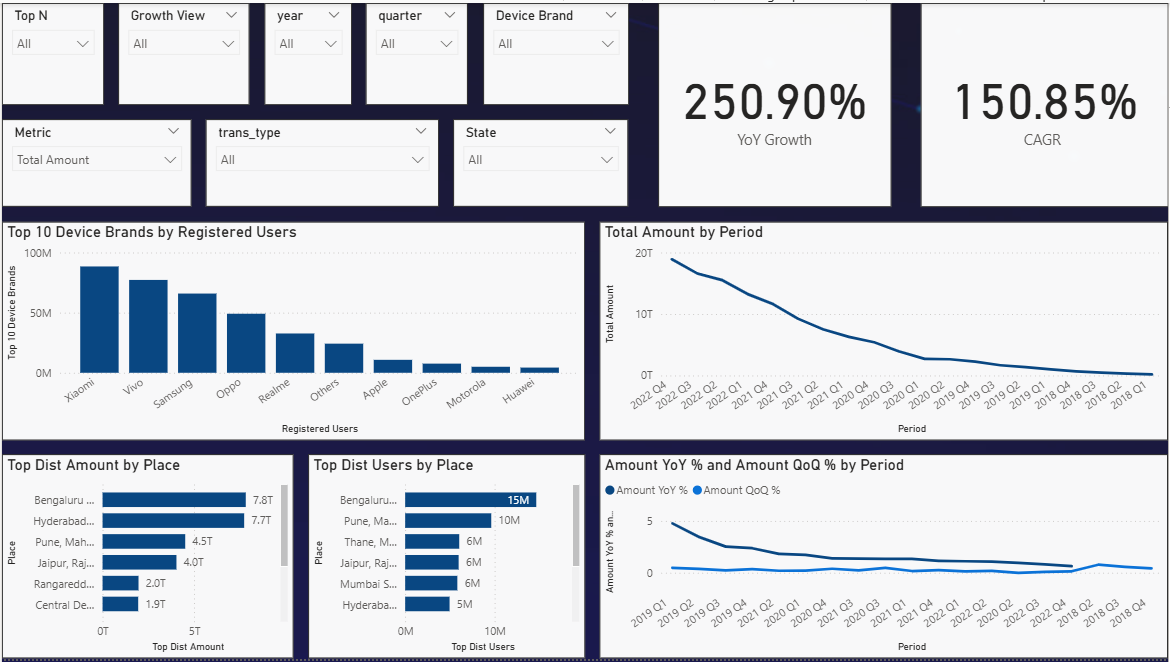

What the dashboard file says about the page in this screenshot:
{"tool":"powerbi","page":{"name":"Trends & Top Performers","canvas":[1280,720],"ordinal":1},"visuals":[{"type":"slicer","fields":{"Values":["Top N.Top N"]},"box":[0,0,112,112],"z":0},{"type":"clusteredBarChart","fields":{"Y":["_Measures.Top Dist Amount"],"Category":["Top_Transaction.Place"]},"box":[0,496,320,224],"z":1000},{"type":"clusteredBarChart","fields":{"Category":["Top_User.Place"],"Y":["_Measures.Top Dist Users"]},"box":[336,496,304,224],"z":2000},{"type":"slicer","fields":{"Values":["Growth View.Growth View"]},"box":[128,0,144,112],"z":3000},{"type":"lineChart","fields":{"Y":["_Measures.Amount YoY %","_Measures.Amount QoQ %"],"Category":["Dim_Period.Period"]},"box":[656,496,624,224],"z":4000},{"type":"slicer","fields":{"Values":["Dim_Period.year"]},"box":[288,0,96,112],"z":5000},{"type":"slicer","fields":{"Values":["Dim_Period.quarter"]},"box":[400,0,112,112],"z":6000},{"type":"slicer","fields":{"Values":["Dim_State.State"]},"box":[496,128,192,96],"z":7000},{"type":"slicer","fields":{"Values":["Agg_Transaction.trans_type"]},"box":[224,128,256,96],"z":8000},{"type":"slicer","fields":{"Values":["Agg_User.brand"]},"box":[528,0,160,112],"z":9000},{"type":"slicer","fields":{"Values":["Metric.Metric"]},"box":[0,128,208,96],"z":10000},{"type":"lineChart","fields":{"Y":["_Measures.Total Amount"],"Category":["Dim_Period.Period"]},"box":[656,240,624,240],"z":11000},{"type":"clusteredColumnChart","fields":{"Category":["Agg_User.brand"],"Y":["_Measures.Brand Users"]},"box":[0,240,640,240],"z":12000},{"type":"card","fields":{"Values":["_Measures.Amount YoY %"]},"box":[720,0,256,224],"z":13000},{"type":"card","fields":{"Values":["_Measures.Amount CAGR %"]},"box":[1008,0,272,224],"z":14000}]}

Visuals, with their boxes in screenshot pixels (x1, y1, x2, y2), scaled from the page's 1280x720 canvas onto the 1170x662 screenshot:
slicer - Top N.Top N: bbox(0, 0, 102, 103)
clusteredBarChart - _Measures.Top Dist Amount x Top_Transaction.Place: bbox(0, 456, 292, 661)
clusteredBarChart - Top_User.Place x _Measures.Top Dist Users: bbox(307, 456, 585, 661)
slicer - Growth View.Growth View: bbox(117, 0, 249, 103)
lineChart - _Measures.Amount YoY % x _Measures.Amount QoQ %: bbox(600, 456, 1169, 661)
slicer - Dim_Period.year: bbox(263, 0, 351, 103)
slicer - Dim_Period.quarter: bbox(366, 0, 468, 103)
slicer - Dim_State.State: bbox(453, 118, 629, 206)
slicer - Agg_Transaction.trans_type: bbox(205, 118, 439, 206)
slicer - Agg_User.brand: bbox(483, 0, 629, 103)
slicer - Metric.Metric: bbox(0, 118, 190, 206)
lineChart - _Measures.Total Amount x Dim_Period.Period: bbox(600, 221, 1169, 441)
clusteredColumnChart - Agg_User.brand x _Measures.Brand Users: bbox(0, 221, 585, 441)
card - _Measures.Amount YoY %: bbox(658, 0, 892, 206)
card - _Measures.Amount CAGR %: bbox(921, 0, 1169, 206)
